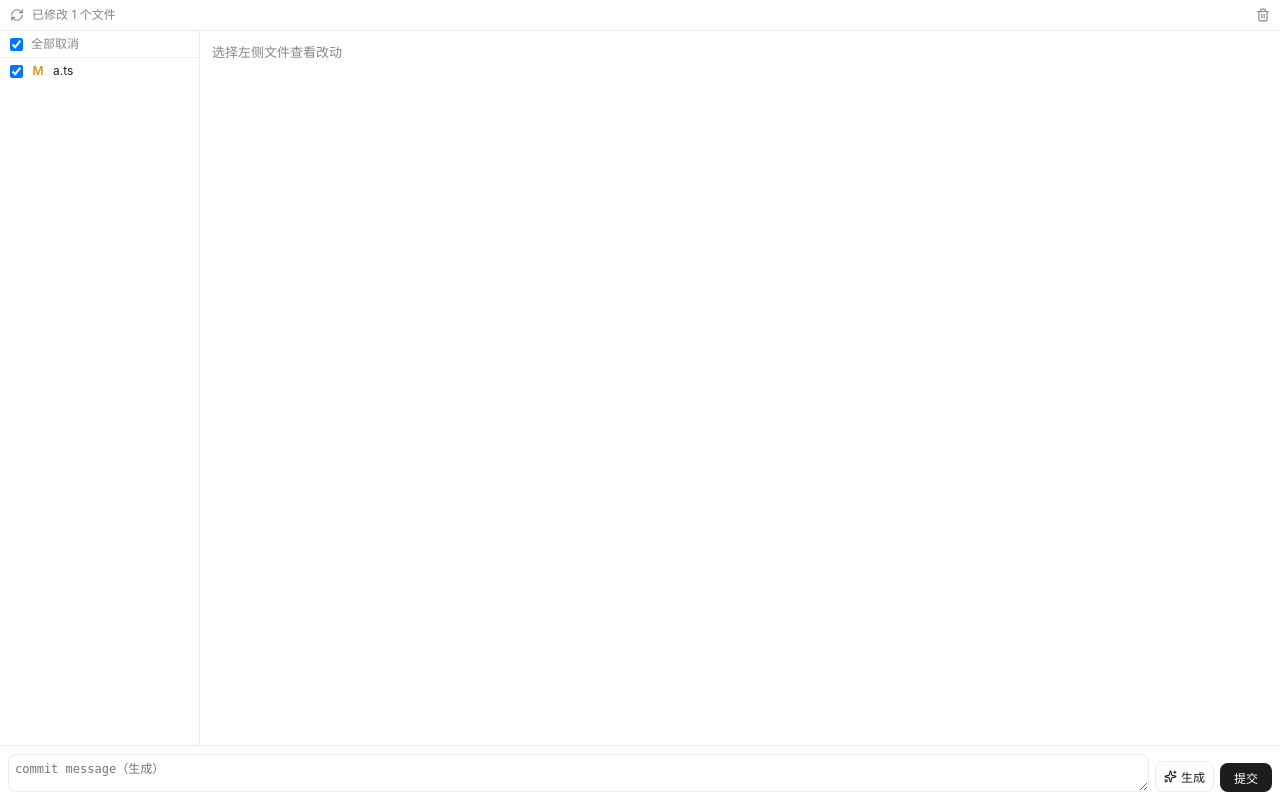
Scenario: ReviewTab › commit 失败时显示 error notice
Expected: the text "a.ts" is shown, [53, 62, 73, 80]
Type "feat: x" into the text box with placeholder "commit message（生成）" at coordinates (578, 773), box [8, 754, 1149, 792]
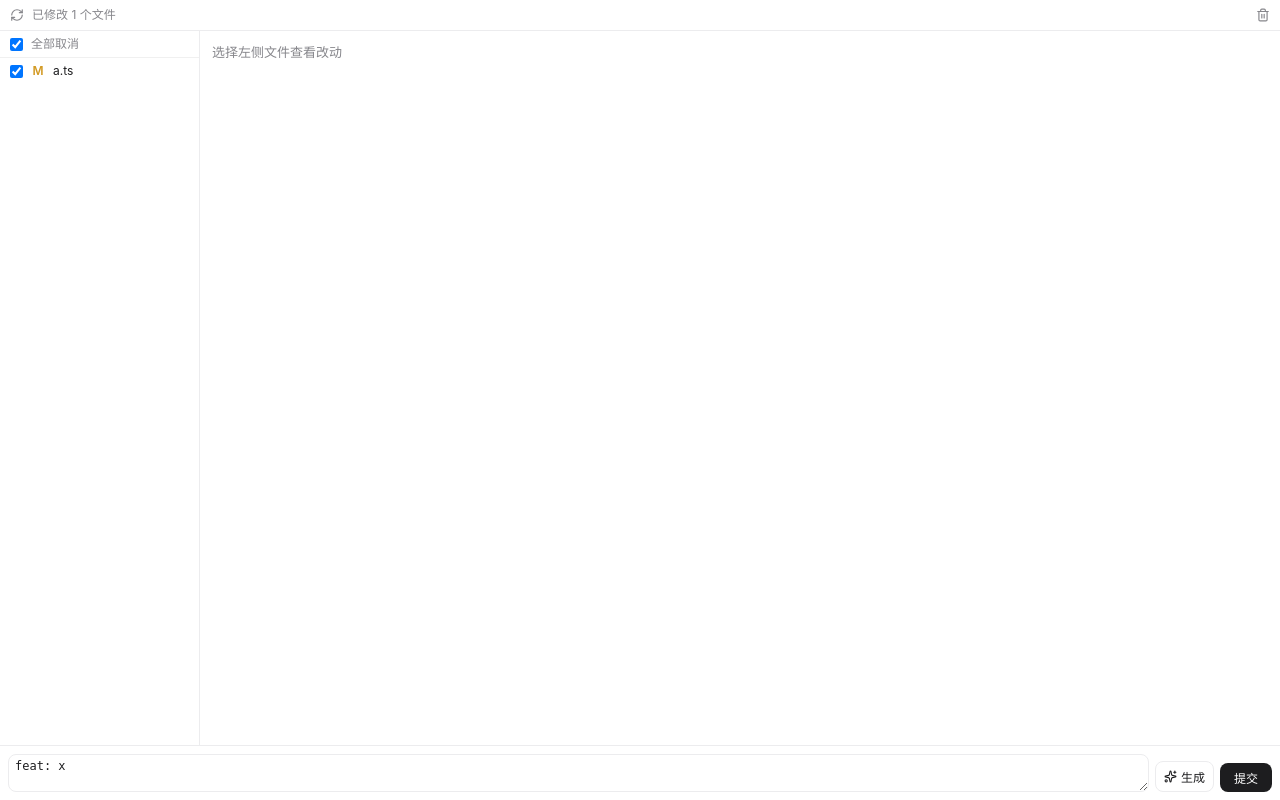
Click the button "提交" at coordinates (1246, 778), box [1220, 763, 1272, 792]
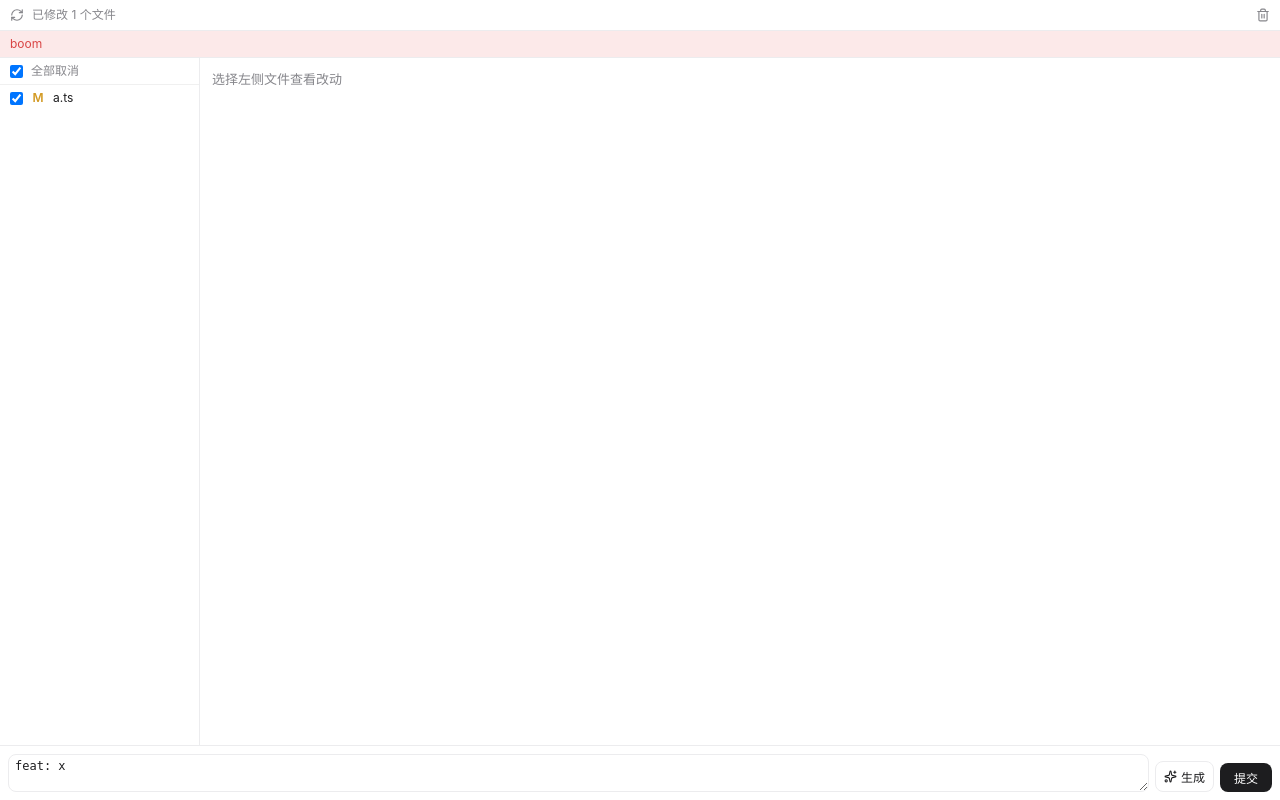
Expected: the message "boom" is shown, [0, 31, 1279, 58]
Expected: the message with test id "review-notice" reads "boom", [10, 36, 42, 51]
